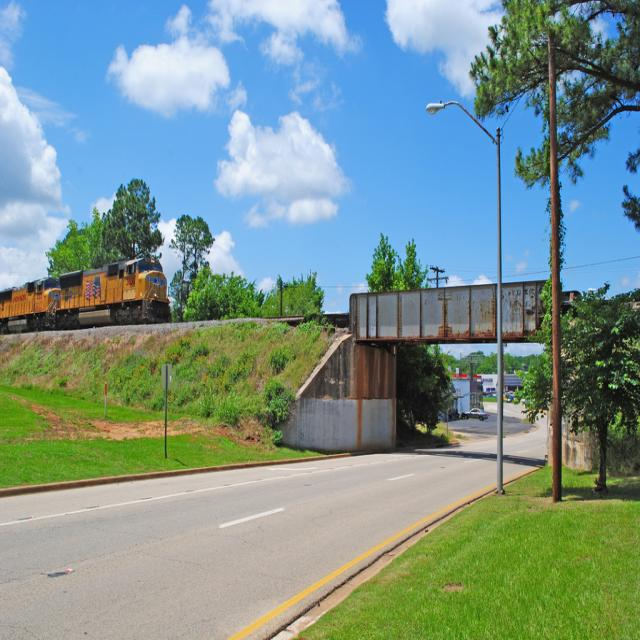locomotive: (54, 250, 174, 332), (0, 273, 59, 338)
